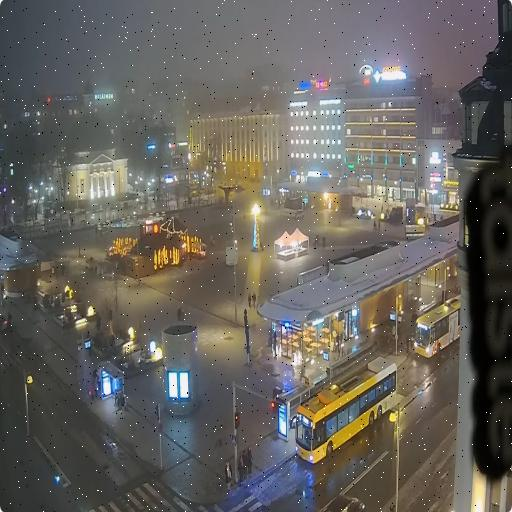Bus: (296, 357, 396, 462), (414, 295, 460, 356)
